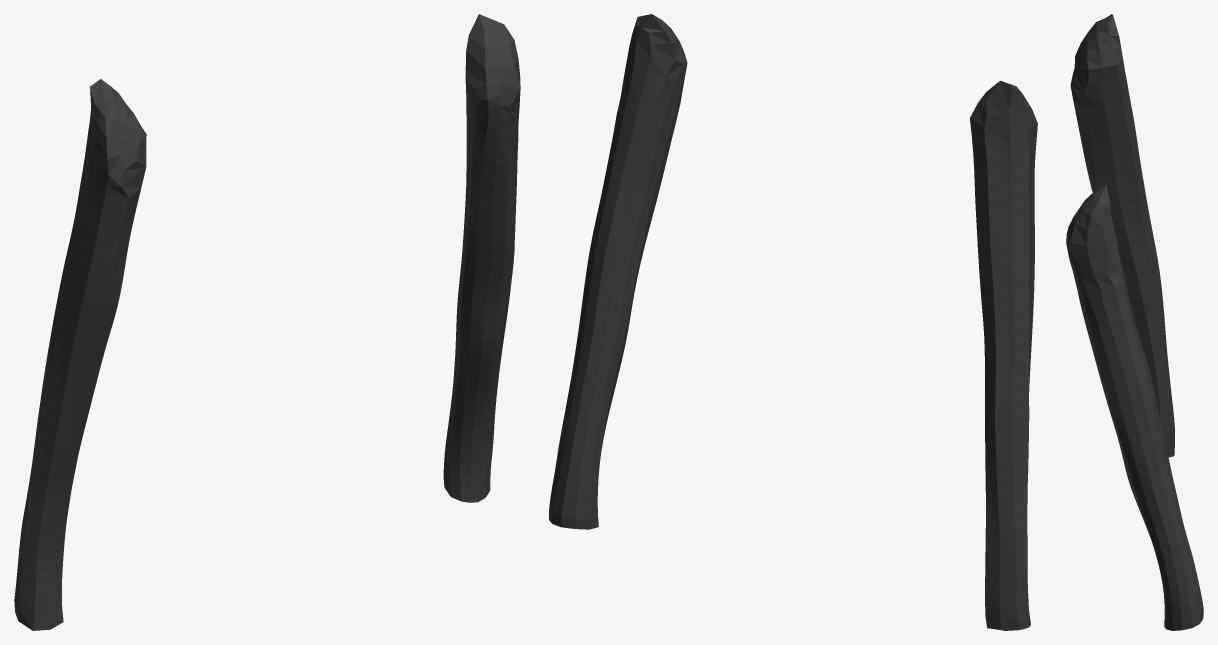
File: Abaxial_palm_lig_R.glb
3 views of the same model, side by side, from view 1: azimuth 30°, elevation 25°; view 2: azimuth 150°, elevation 25°; view 3: azimuth 270°, elevation 25° (orthographic). The views are drawn at different scales.
Parts seen in each view (by area): view 1: Abaxial_palm_lig_R; view 2: Abaxial_palm_lig_R; view 3: Abaxial_palm_lig_R.
Boxes of the visible parts, x1=… form: Abaxial_palm_lig_R: x1=14, y1=14, x2=520, y2=630; Abaxial_palm_lig_R: x1=549, y1=14, x2=1037, y2=630; Abaxial_palm_lig_R: x1=1066, y1=14, x2=1203, y2=630.
Bounding box in the file's own units: 1.36 × 1.48 × 0.4045.
Materials: 1 (1 with a texture image).
